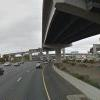Bridge: (34, 2, 85, 52)
